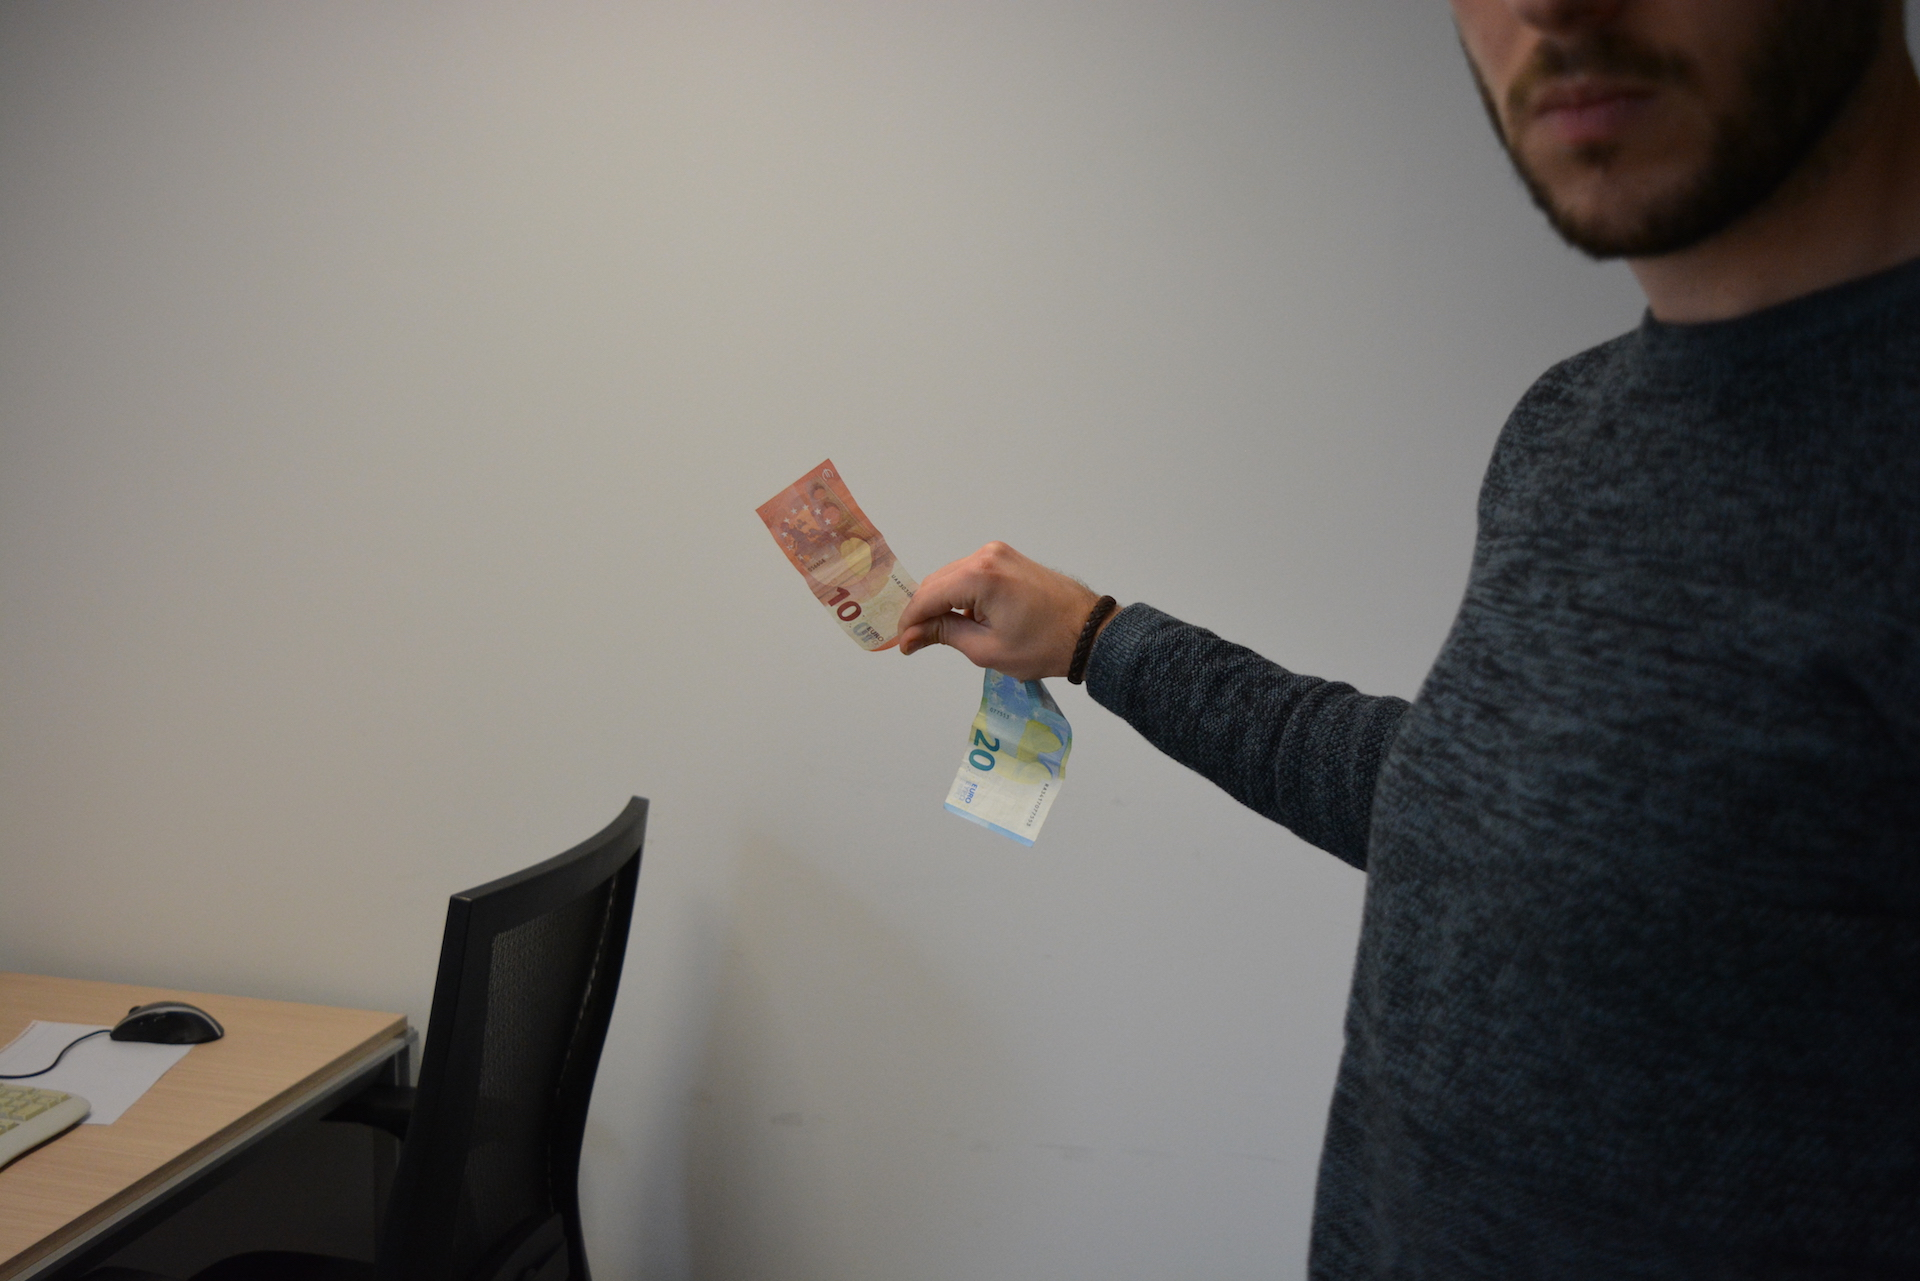billete: (753, 457, 924, 653), (944, 663, 1074, 851)
